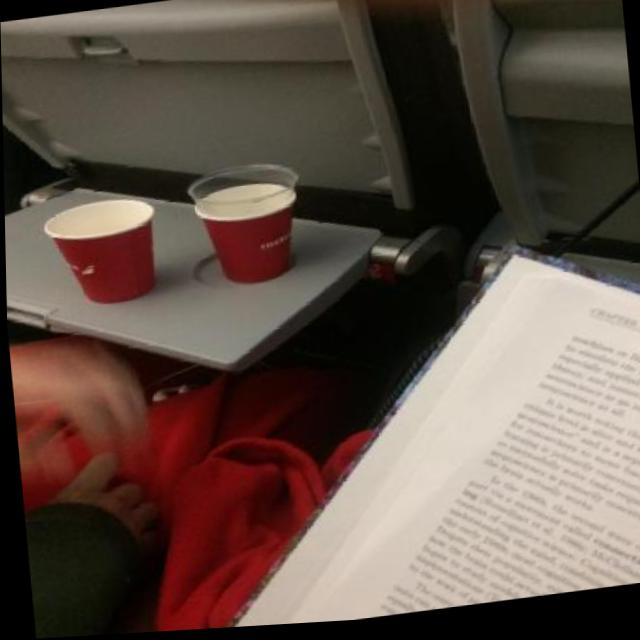cardboard: (42, 195, 162, 311), (194, 179, 298, 290)
